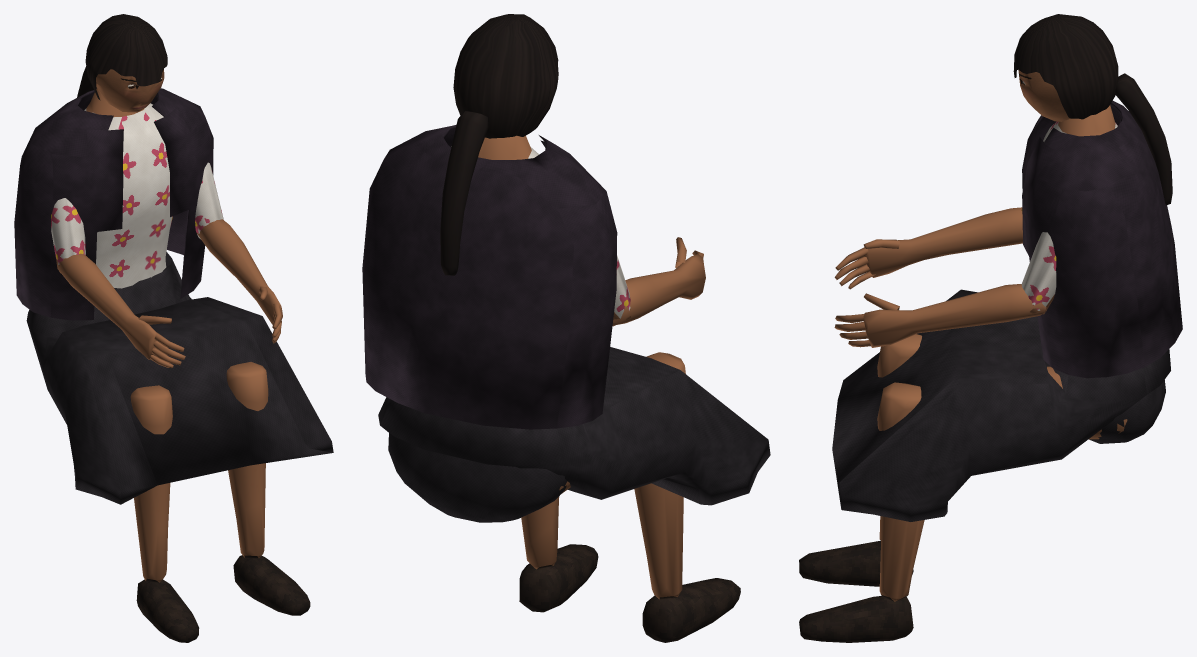
File: persona_mujer_sentada_lod.obj
3 views of the same model, side by side, from view 1: azimuth 30°, elevation 25°; view 2: azimuth 150°, elevation 25°; view 3: azimuth 270°, elevation 25° (orthographic). The views are drawn at different scales.
Visible parts, largest first — view 1: persona_mujer_sentada; view 2: persona_mujer_sentada; view 3: persona_mujer_sentada.
Part boxes in pixels (box(x1,y1,x2,y2)): persona_mujer_sentada: box(14, 14, 333, 642); persona_mujer_sentada: box(362, 14, 770, 642); persona_mujer_sentada: box(799, 14, 1182, 642).
Size of the model in its own units: 0.5969 by 1.25 by 0.7336.
12 materials, 12 textured.
